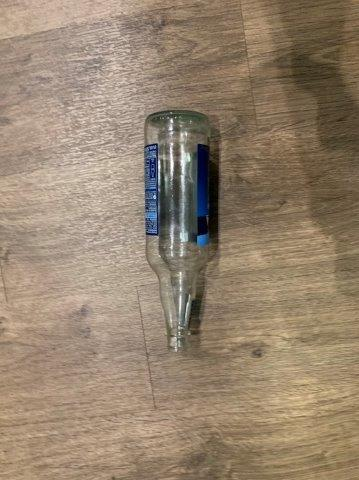botolkaca: (145, 109, 211, 349)
